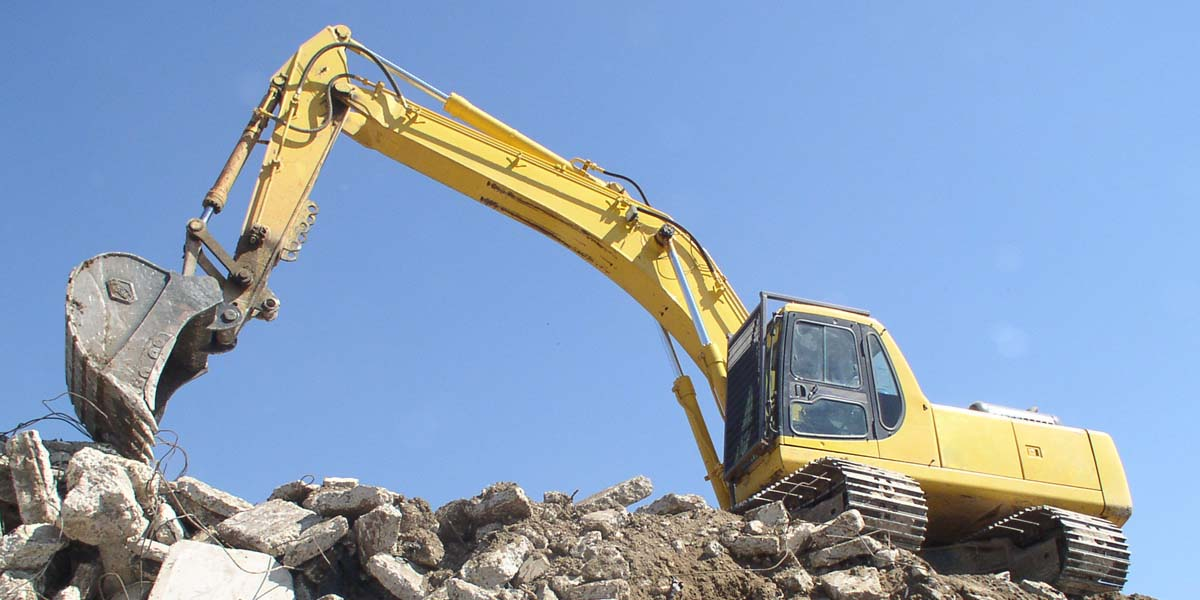backhoe: (48, 20, 1137, 600)
